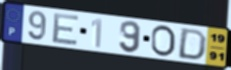1: (91, 17, 104, 49)
9: (119, 20, 143, 55), (27, 10, 47, 41)
D: (176, 27, 209, 61)
E: (50, 12, 81, 46)
O: (150, 24, 177, 58)
